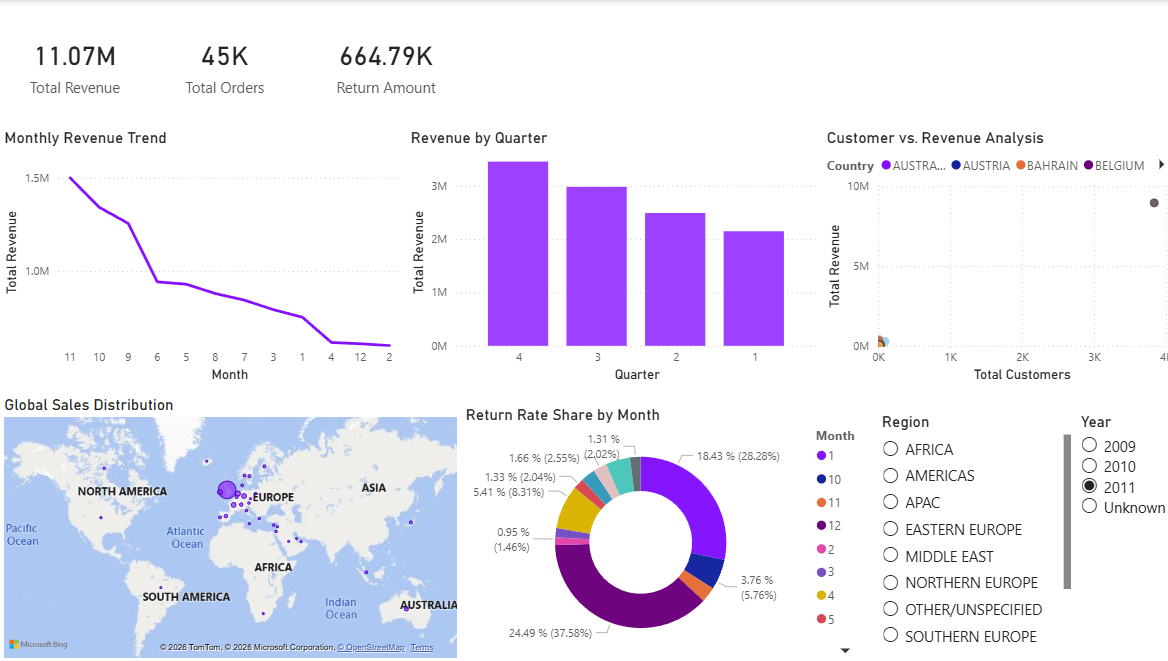

The dashboard page shown, as its layout file describes it:
{"tool":"powerbi","page":{"name":"Executive Overview","canvas":[1280,720],"ordinal":0},"visuals":[{"type":"card","fields":{"Values":["Measures.Total Revenue"]},"box":[0,0,163.1,140],"z":0},{"type":"card","fields":{"Values":["Measures.Total Orders"]},"box":[163.1,0,163.1,140],"z":1000},{"type":"card","fields":{"Values":["Fact Return.Return Amount"]},"box":[338.4,0,163.1,140],"z":2000},{"type":"lineChart","title":"Monthly Revenue Trend","fields":{"Y":["Measures.Total Revenue"],"Category":["Dim Date.Month"]},"box":[0,140,441.4,280],"z":3000},{"type":"clusteredColumnChart","title":"Revenue by Quarter","fields":{"Category":["Dim Date.Quarter"],"Y":["Measures.Total Revenue"]},"box":[441.4,140,452.9,280],"z":4000},{"type":"map","title":"Global Sales Distribution","fields":{"Category":["Dim Country.Country"],"Size":["Measures.Total Revenue"]},"box":[0,429.5,501.5,290.8],"z":5000},{"type":"donutChart","title":"Return Rate Share by Month","fields":{"Y":["Measures.Return Rate"],"Series":["Dim Date.Month"]},"box":[501.5,440.3,452.6,280],"z":6000},{"type":"listSlicer","fields":{"Values":["Dim Date.Year"]},"box":[1170,448.6,110,212.9],"z":7000},{"type":"listSlicer","fields":{"Values":["Dim Country.Region"]},"box":[954.3,448.6,215.7,264.3],"z":8000},{"type":"scatterChart","title":"Customer vs. Revenue Analysis","fields":{"X":["Measures.Total Customers"],"Y":["Measures.Total Revenue"],"Series":["Dim Country.Country"]},"box":[894.3,140,385.7,280],"z":9000}]}

Visuals, with their boxes in screenshot pixels (x1, y1, x2, y2), scaled from the page's 1280x720 canvas onto the 1168x661 screenshot:
card - Measures.Total Revenue: left=0, top=0, right=149, bottom=129
card - Measures.Total Orders: left=149, top=0, right=298, bottom=129
card - Fact Return.Return Amount: left=309, top=0, right=458, bottom=129
"Monthly Revenue Trend" lineChart: left=0, top=129, right=403, bottom=386
"Revenue by Quarter" clusteredColumnChart: left=403, top=129, right=816, bottom=386
"Global Sales Distribution" map: left=0, top=394, right=458, bottom=660
"Return Rate Share by Month" donutChart: left=458, top=404, right=871, bottom=660
listSlicer - Dim Date.Year: left=1068, top=412, right=1167, bottom=607
listSlicer - Dim Country.Region: left=871, top=412, right=1068, bottom=654
"Customer vs. Revenue Analysis" scatterChart: left=816, top=129, right=1167, bottom=386
